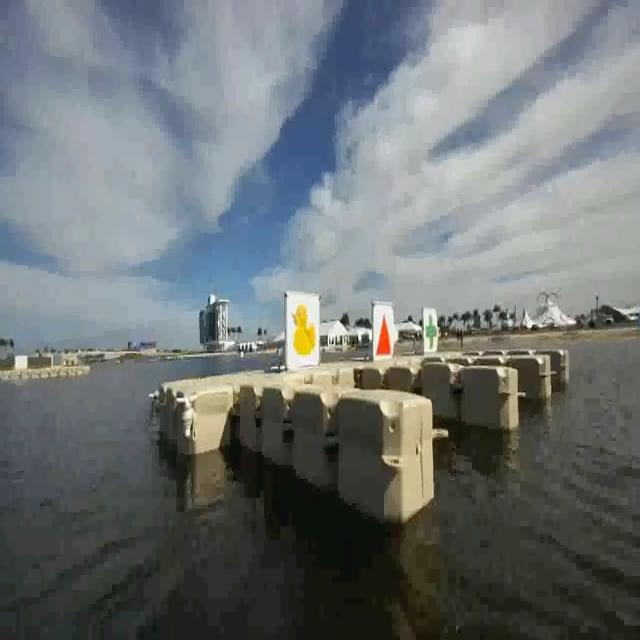blue-cross: (423, 304, 438, 352)
red-dot: (373, 300, 396, 358)
yellow-duck: (291, 294, 318, 368)
